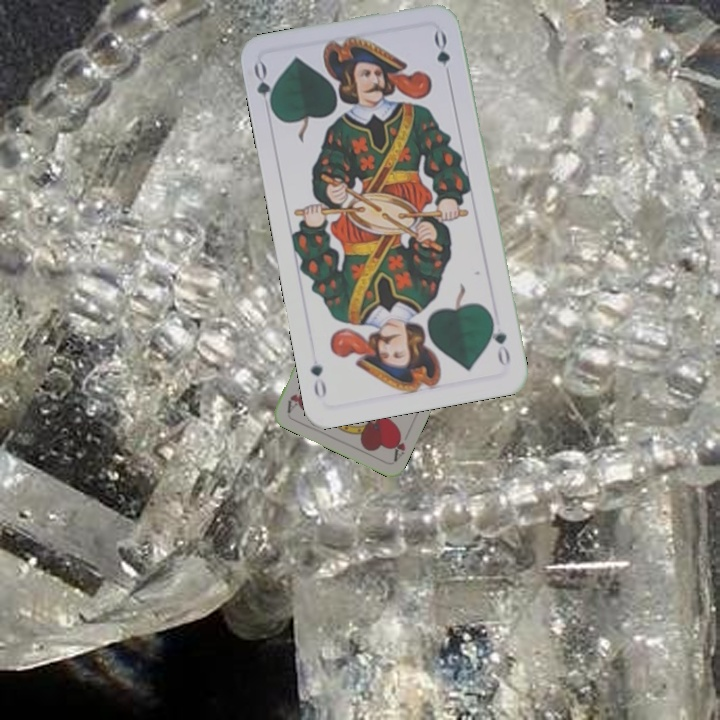GO: (249, 59, 278, 117), (486, 312, 513, 369)
HA: (387, 427, 408, 463)
